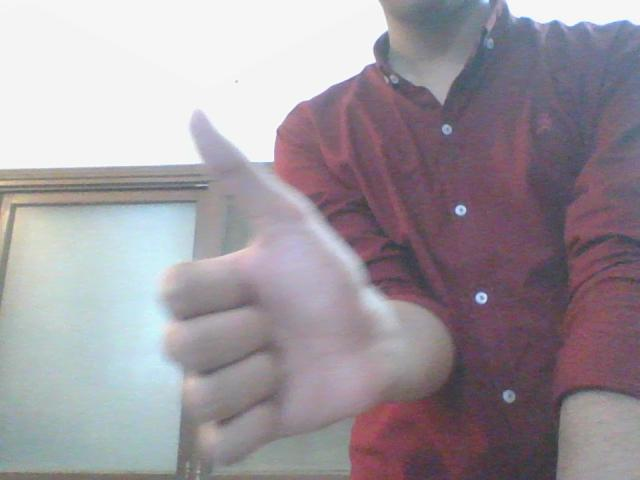thumbs-up: (119, 114, 383, 469)
